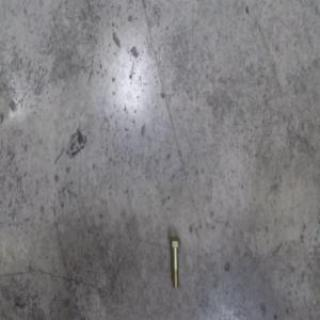Bolttrack_idkeyframe: (168, 235, 181, 289)
